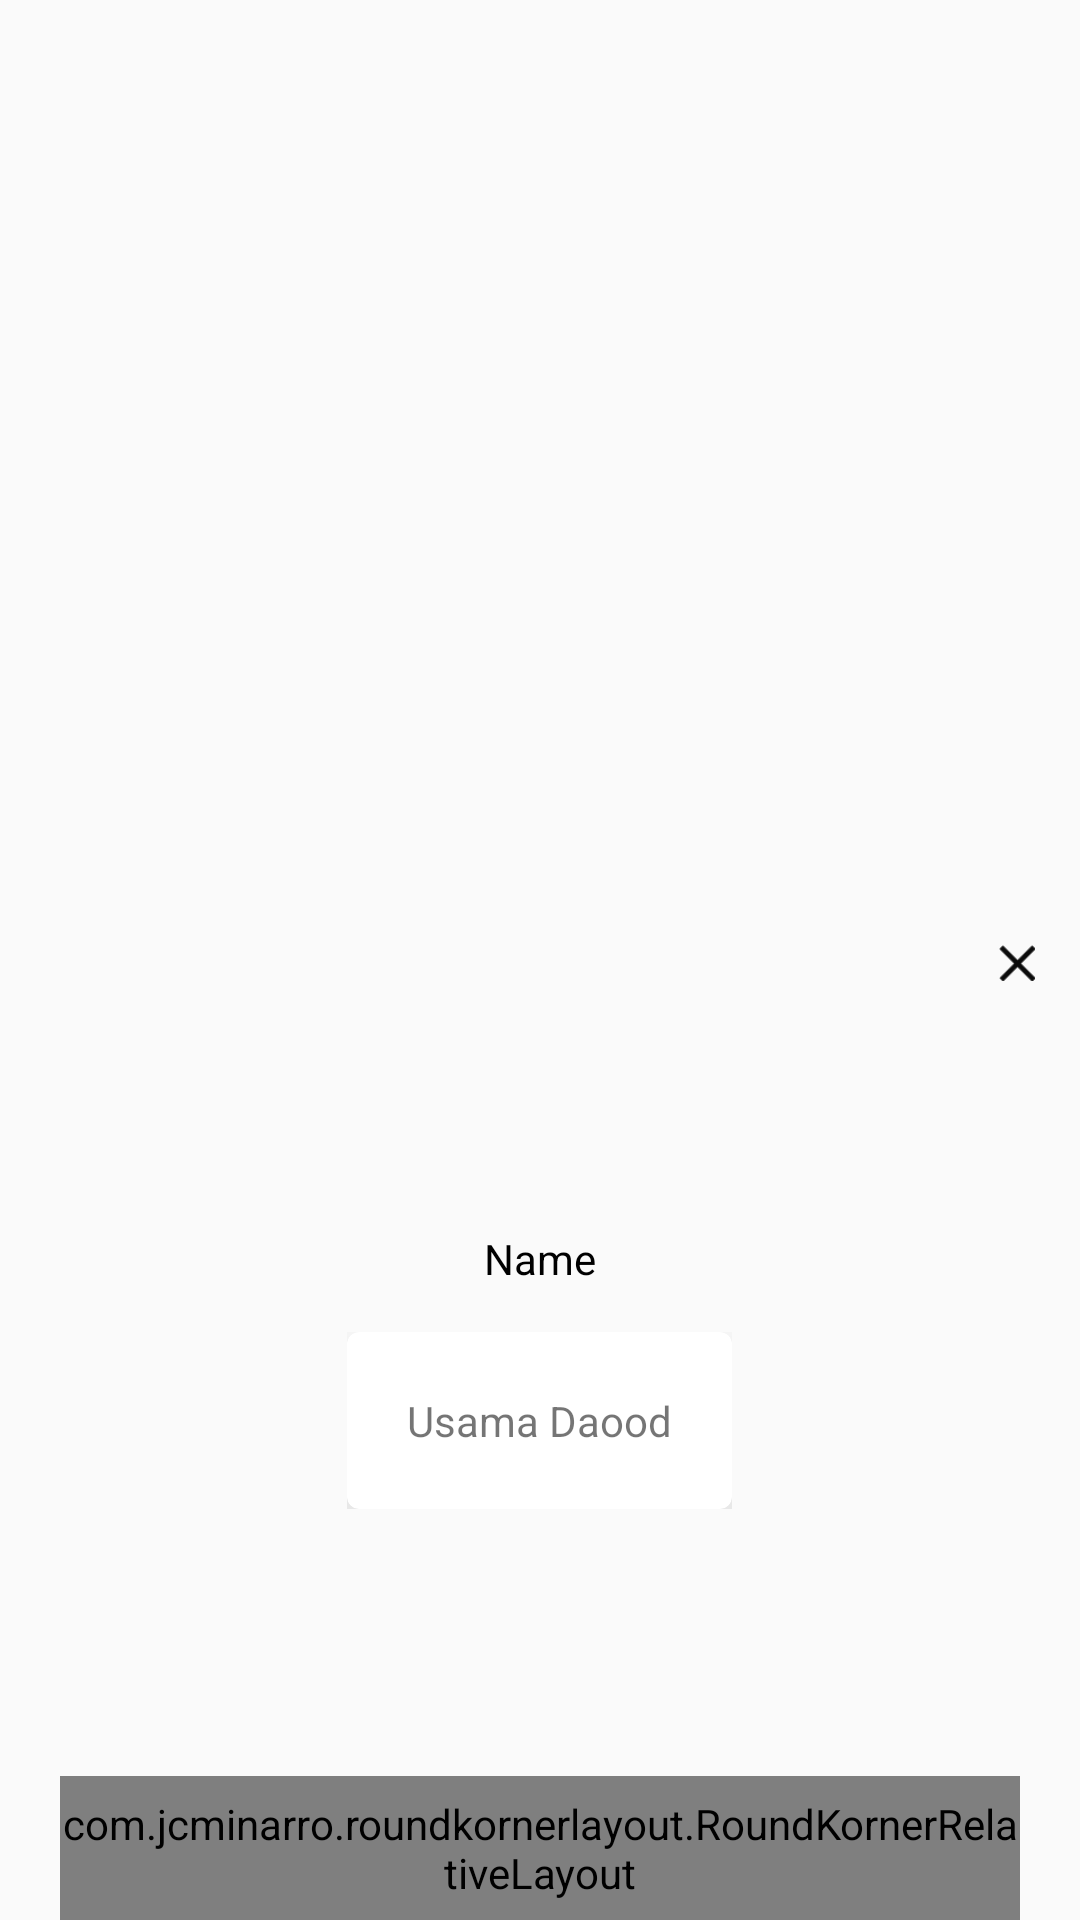

Icon click points for this 1080px x 1920px phone screenshot, format (x,y):
cross: (1017,963)
